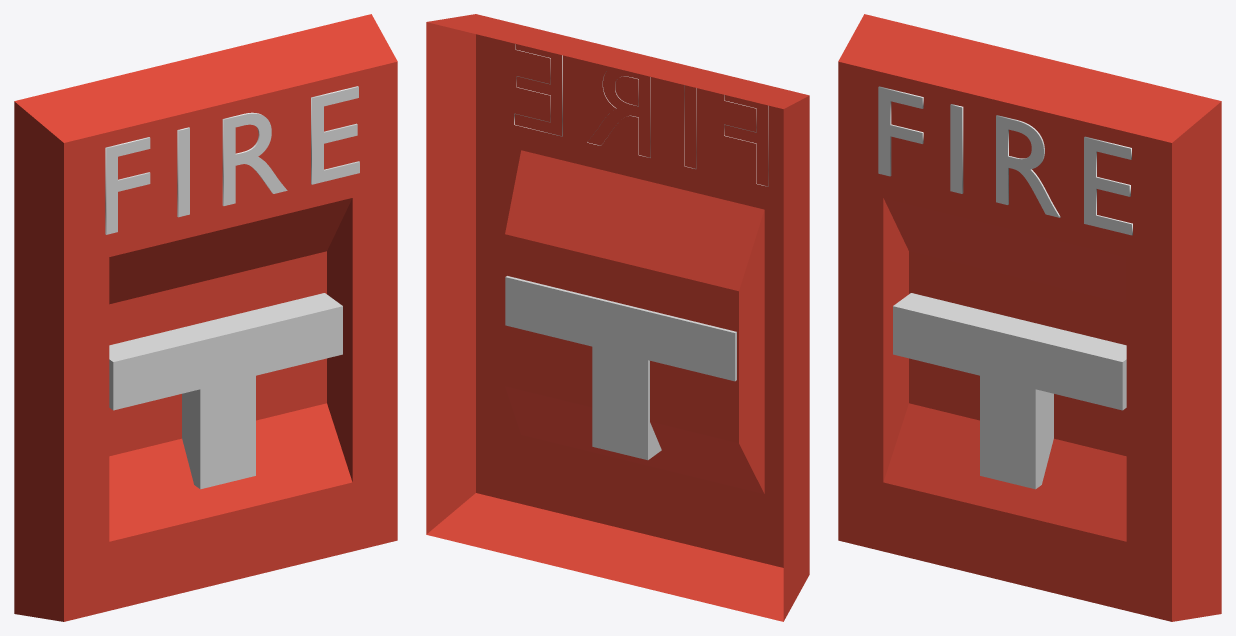
The model's file is FireSwitch.fbx.
3 renders of one model, left to right at view 1: azimuth 30°, elevation 25°; view 2: azimuth 150°, elevation 25°; view 3: azimuth 330°, elevation 25°, orthographic.
Parts seen in each view (by area): view 1: Fire Switch; view 2: Fire Switch; view 3: Fire Switch.
Part boxes in pixels (x1=…): Fire Switch: x1=14, y1=14, x2=397, y2=621; Fire Switch: x1=426, y1=14, x2=809, y2=621; Fire Switch: x1=838, y1=14, x2=1221, y2=621.
Bounding box in the file's own units: 202 × 277 × 38.17.
